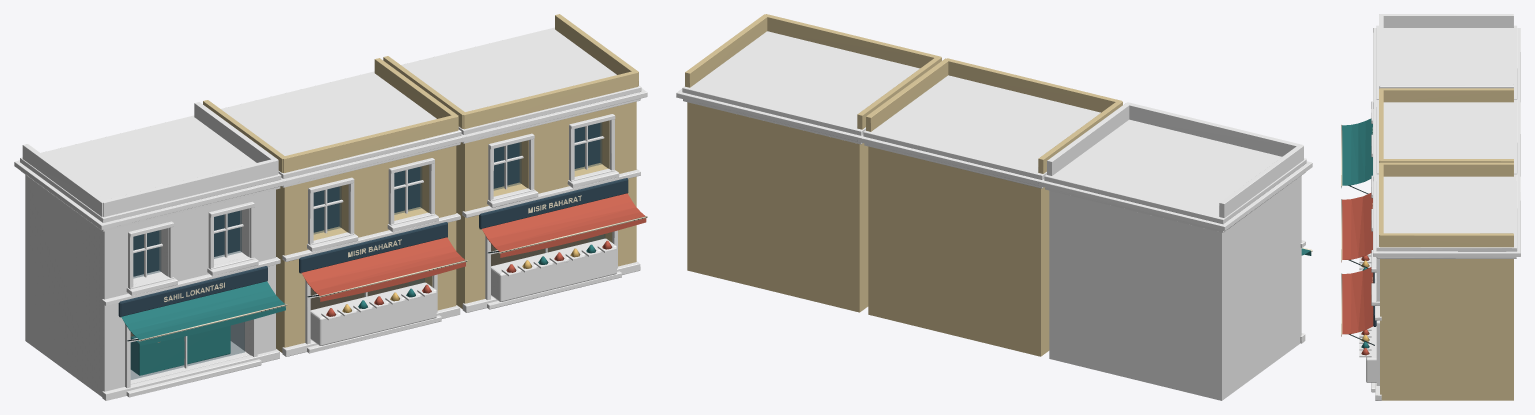
The model's file is DistrictBlock_1_2_LOD1.glb.
3 views of the same model, side by side, from view 1: azimuth 30°, elevation 25°; view 2: azimuth 150°, elevation 25°; view 3: azimuth 270°, elevation 25° (orthographic). The views are drawn at different scales.
Parts seen in each view (by area): view 1: RK_DistrictBlock_1_2_LOD1_LC_Lime, RK_DistrictBlock_1_2_LOD1_LC_Ochre, RK_DistrictBlock_1_2_LOD1_LC_Coral, RK_DistrictBlock_1_2_LOD1_LC_Ink, RK_DistrictBlock_1_2_LOD1_LC_Wood, RK_DistrictBlock_1_2_LOD1_LC_Red, RK_DistrictBlock_1_2_LOD1_LC_Teal, RK_DistrictBlock_1_2_LOD1_LC_Glass, RK_DistrictBlock_1_2_LOD1_LC_Canvas, RK_DistrictBlock_1_2_LOD1_LC_Interior; view 2: RK_DistrictBlock_1_2_LOD1_LC_Ochre, RK_DistrictBlock_1_2_LOD1_LC_Coral, RK_DistrictBlock_1_2_LOD1_LC_Lime; view 3: RK_DistrictBlock_1_2_LOD1_LC_Lime, RK_DistrictBlock_1_2_LOD1_LC_Ochre, RK_DistrictBlock_1_2_LOD1_LC_Red, RK_DistrictBlock_1_2_LOD1_LC_Coral, RK_DistrictBlock_1_2_LOD1_LC_Teal, RK_DistrictBlock_1_2_LOD1_LC_Wood, RK_DistrictBlock_1_2_LOD1_LC_Canvas.
Boxes of the visible parts, x1,y1,x2,y2 form: RK_DistrictBlock_1_2_LOD1_LC_Lime: [14, 27, 647, 400]; RK_DistrictBlock_1_2_LOD1_LC_Ochre: [203, 14, 638, 352]; RK_DistrictBlock_1_2_LOD1_LC_Coral: [22, 102, 278, 396]; RK_DistrictBlock_1_2_LOD1_LC_Ink: [118, 123, 628, 317]; RK_DistrictBlock_1_2_LOD1_LC_Wood: [130, 126, 616, 384]; RK_DistrictBlock_1_2_LOD1_LC_Red: [301, 193, 646, 316]; RK_DistrictBlock_1_2_LOD1_LC_Teal: [121, 244, 596, 375]; RK_DistrictBlock_1_2_LOD1_LC_Glass: [131, 122, 604, 379]; RK_DistrictBlock_1_2_LOD1_LC_Canvas: [138, 195, 647, 342]; RK_DistrictBlock_1_2_LOD1_LC_Interior: [130, 238, 588, 336]; RK_DistrictBlock_1_2_LOD1_LC_Ochre: [685, 14, 1122, 356]; RK_DistrictBlock_1_2_LOD1_LC_Coral: [1047, 102, 1303, 400]; RK_DistrictBlock_1_2_LOD1_LC_Lime: [676, 31, 1312, 343]; RK_DistrictBlock_1_2_LOD1_LC_Lime: [1359, 25, 1520, 400]; RK_DistrictBlock_1_2_LOD1_LC_Ochre: [1379, 88, 1513, 400]; RK_DistrictBlock_1_2_LOD1_LC_Red: [1341, 193, 1373, 355]; RK_DistrictBlock_1_2_LOD1_LC_Coral: [1379, 14, 1513, 88]; RK_DistrictBlock_1_2_LOD1_LC_Teal: [1341, 118, 1372, 348]; RK_DistrictBlock_1_2_LOD1_LC_Wood: [1366, 256, 1376, 382]; RK_DistrictBlock_1_2_LOD1_LC_Canvas: [1341, 125, 1372, 335].
Bounding box in the file's own units: 19.1 × 6.57 × 6.44.
